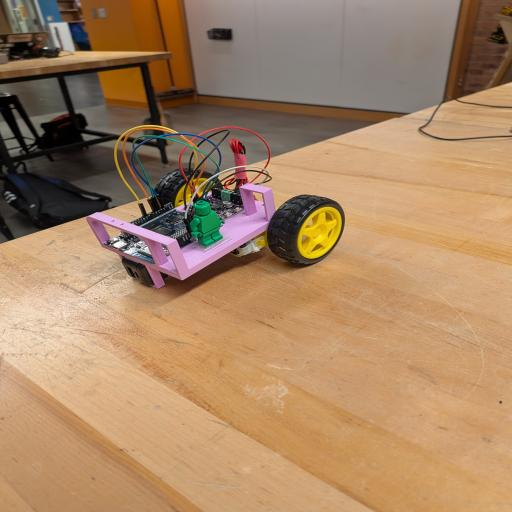Minifig: (190, 201, 224, 246)
